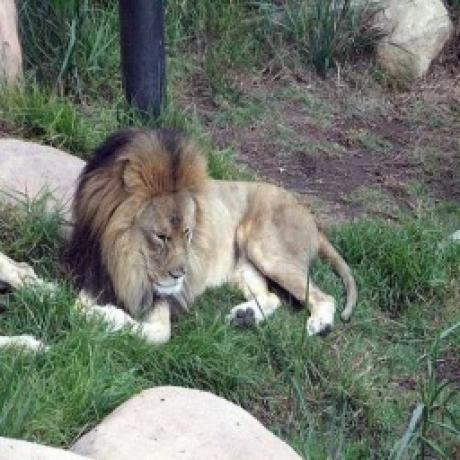Lion: (65, 122, 365, 342)
